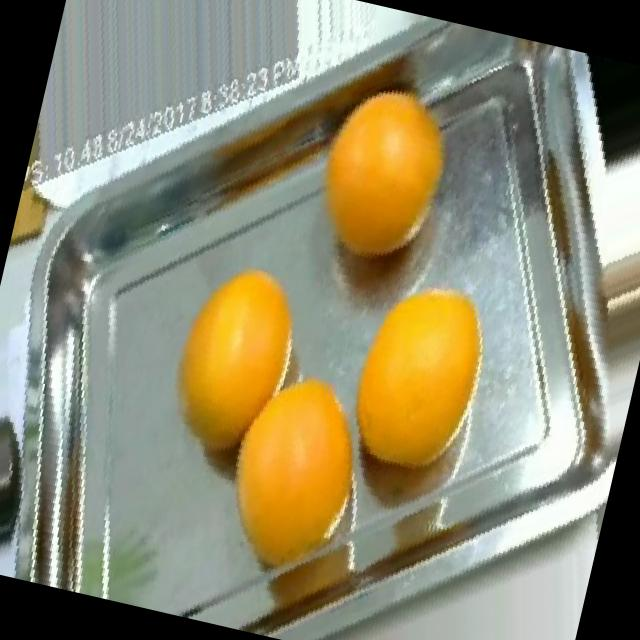Fruit: (276, 52, 496, 311), (140, 230, 347, 476), (542, 48, 640, 189), (3, 164, 65, 278)
